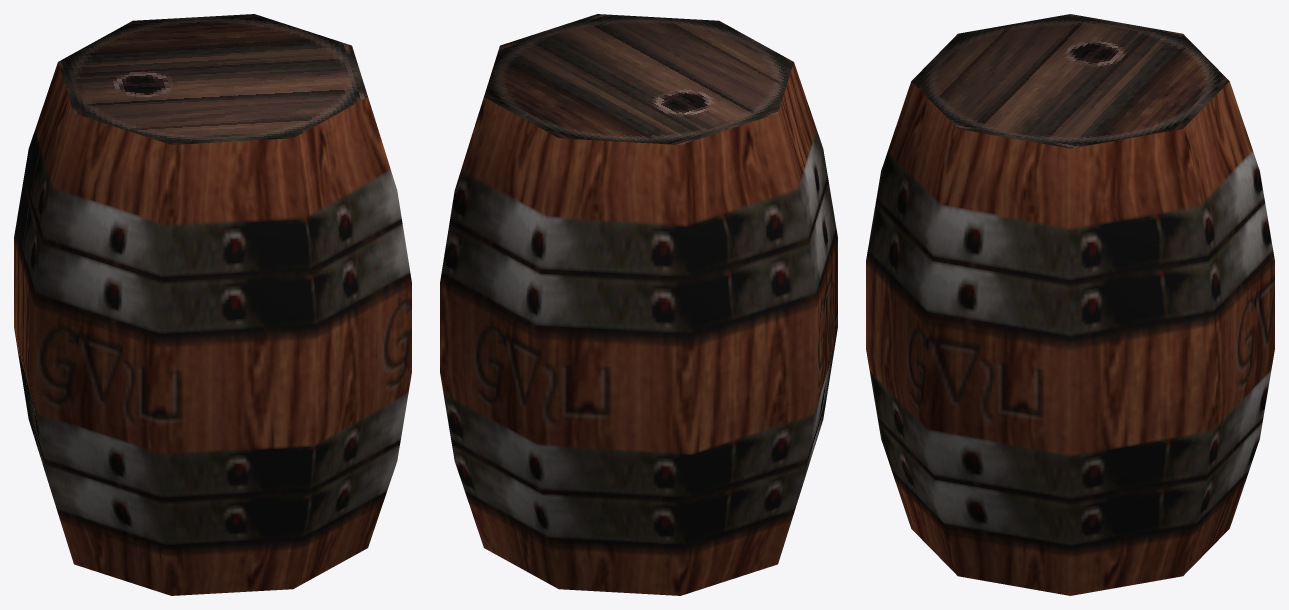
Rendered from BARREL4_ACTORDEF.fbx.
3 views of the same model, side by side, from view 1: azimuth 30°, elevation 25°; view 2: azimuth 150°, elevation 25°; view 3: azimuth 270°, elevation 25° (orthographic).
Parts seen in each view (by area): view 1: U3DMesh; view 2: U3DMesh; view 3: U3DMesh.
Boxes of the visible parts, <box> form: U3DMesh: <box>14,14,411,595</box>; U3DMesh: <box>440,14,837,595</box>; U3DMesh: <box>866,14,1274,595</box>.
Bounding box in the file's own units: 4.5 × 5.43 × 4.5.
